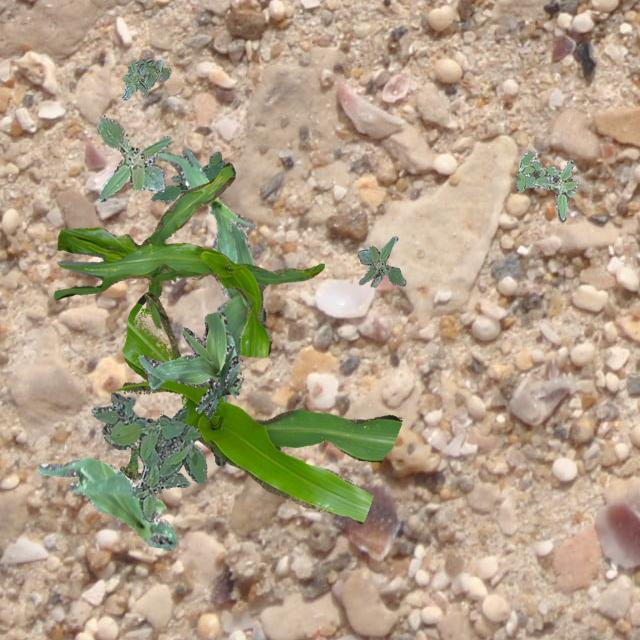crop: (117, 292, 400, 522), (52, 162, 324, 356), (36, 456, 176, 550), (212, 220, 264, 464), (156, 148, 256, 262), (137, 312, 240, 418)
weed: (90, 390, 206, 520), (96, 114, 170, 200), (514, 150, 578, 220), (150, 150, 223, 202), (356, 236, 404, 286), (120, 58, 170, 98), (118, 444, 140, 480)
